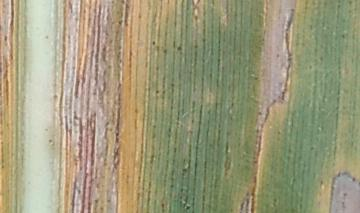tarspot: (152, 87, 162, 95), (174, 45, 186, 51), (341, 31, 348, 40), (184, 205, 193, 211), (151, 38, 157, 46), (153, 65, 160, 71), (273, 53, 280, 59), (181, 168, 188, 174), (44, 127, 50, 133), (162, 47, 168, 53), (161, 201, 167, 207), (352, 175, 357, 182), (48, 138, 53, 144), (45, 34, 50, 40), (161, 90, 168, 94)
